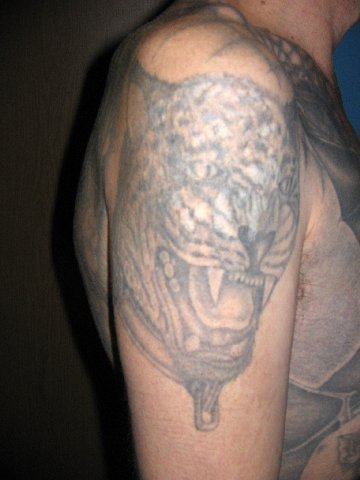tatu5_tigr: (115, 61, 298, 384)
